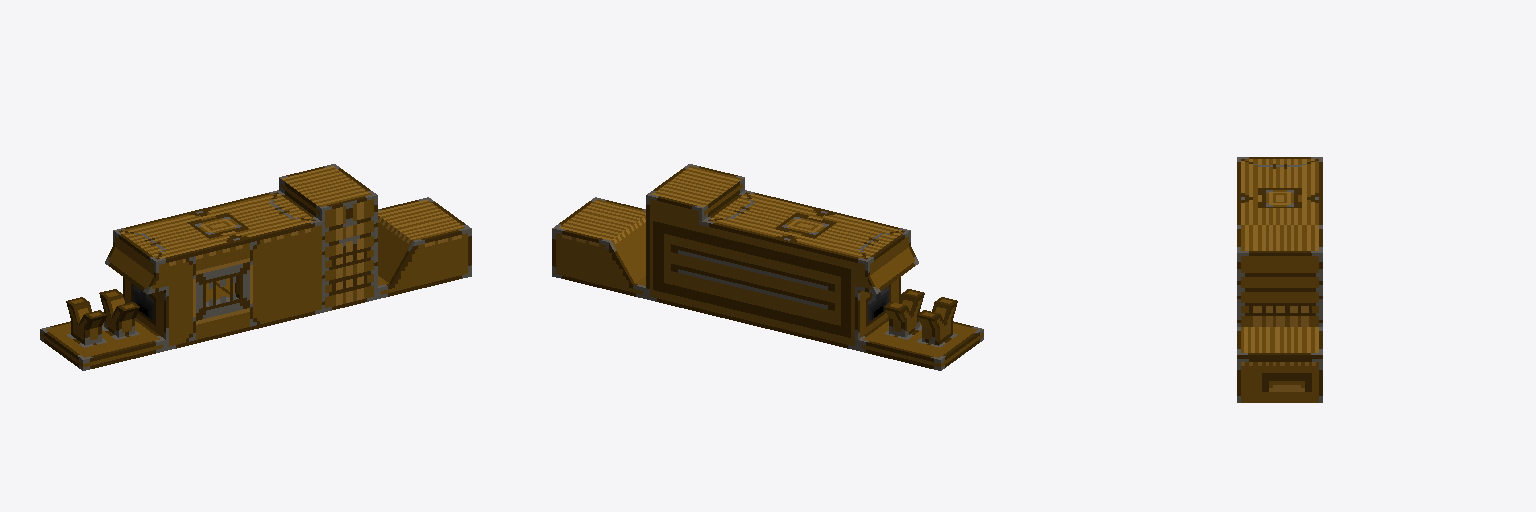
The picture shows the model from 3 angles: view 1: azimuth 30°, elevation 25°; view 2: azimuth 150°, elevation 25°; view 3: azimuth 270°, elevation 25°; orthographic projection.
Visible parts, largest first — view 1: workshop_Cube; view 2: workshop_Cube; view 3: workshop_Cube.
Boxes of the visible parts, box(x1,y1,x2,y2) form: workshop_Cube: box(40, 164, 471, 370); workshop_Cube: box(552, 164, 983, 370); workshop_Cube: box(1237, 157, 1322, 402).
Bounding box in the file's own units: 11.1 × 2.85 × 2.12.
1 materials, 1 textured.